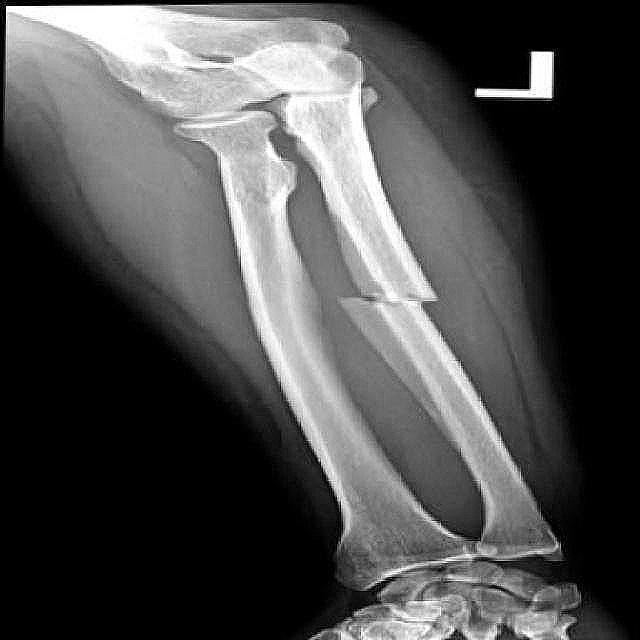bone: (339, 281, 444, 314)
